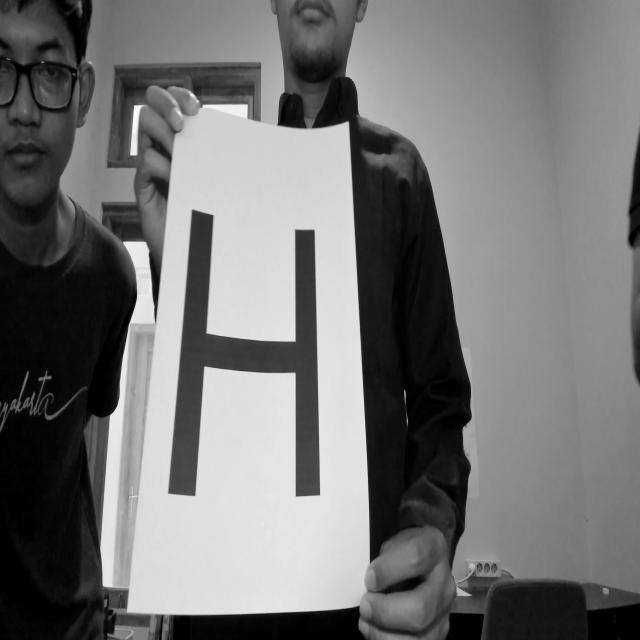h: (164, 188, 326, 533)
